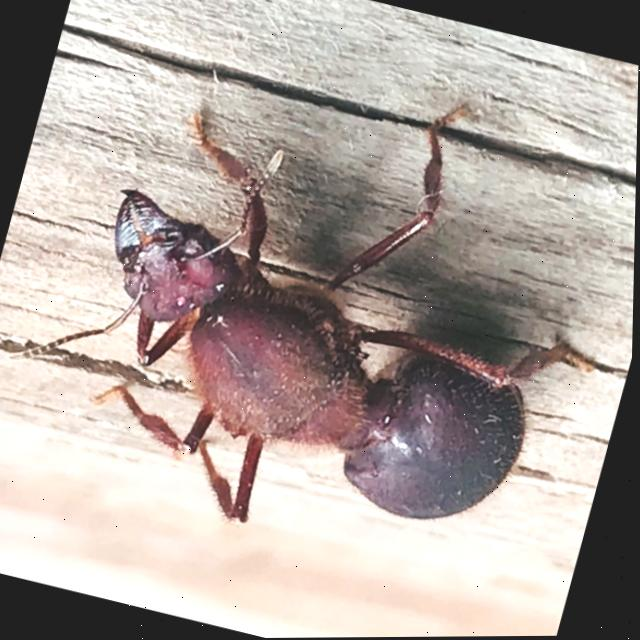Alive-Female-Dealate: (0, 13, 640, 613)
